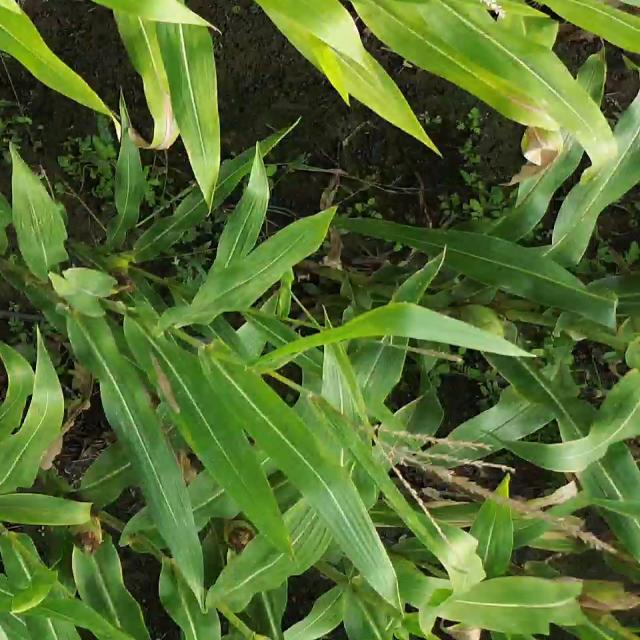northern-leaf-blight: (500, 87, 570, 185), (114, 70, 190, 160), (128, 337, 202, 426)
southern-leaf-blight: (16, 200, 68, 252)
